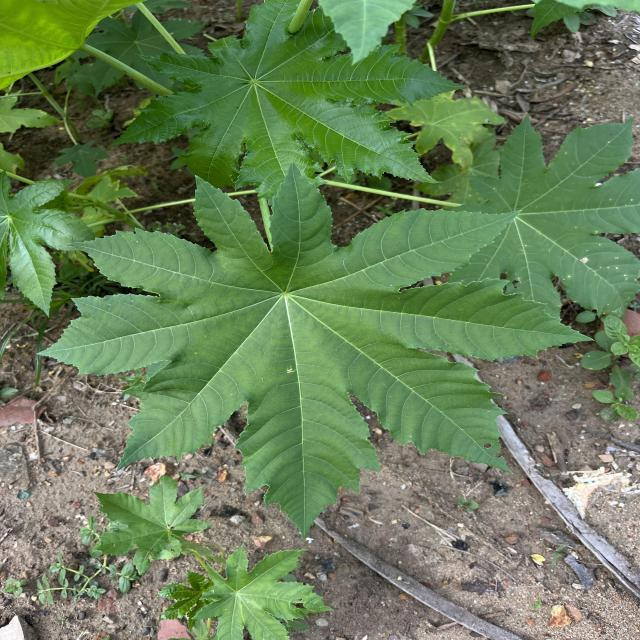Ricinus communis linn: (29, 152, 602, 545)
